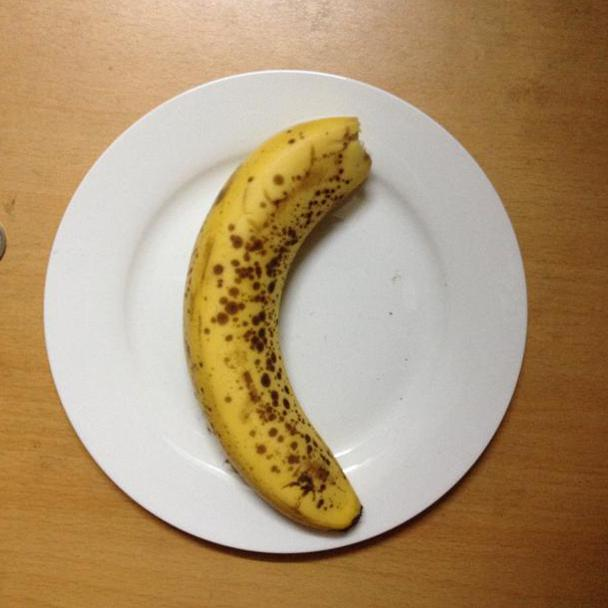banana: (180, 116, 380, 534)
